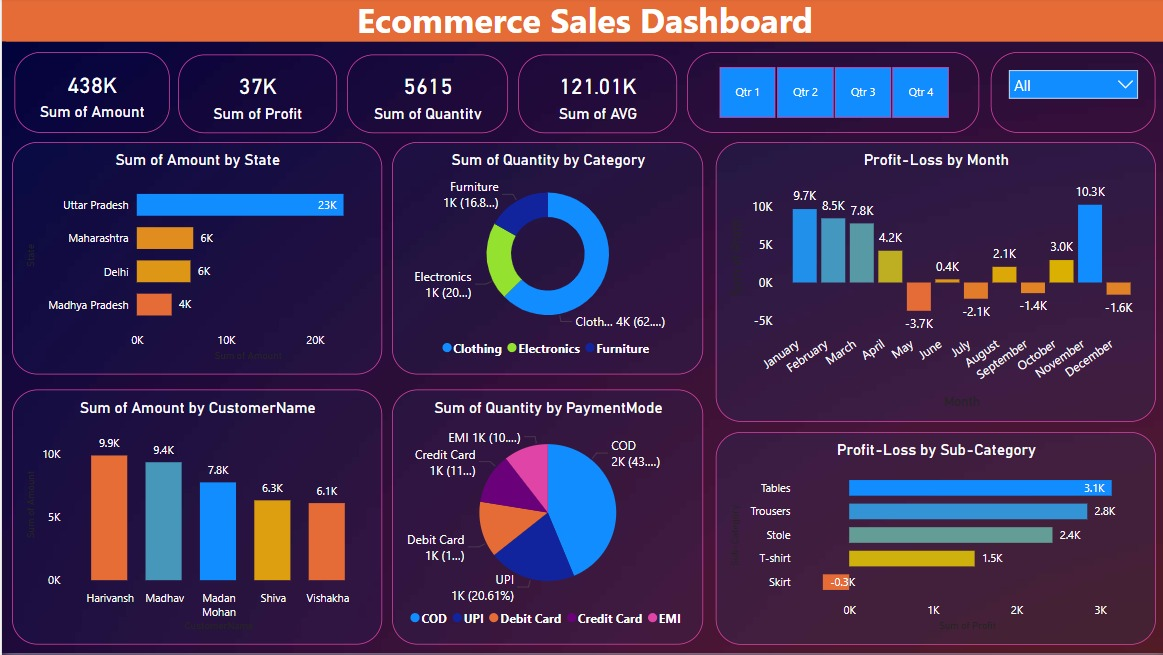

Layout of this report page (visuals, bound fields, positions):
{"tool":"powerbi","page":{"name":"Page 1","canvas":[1280,720],"ordinal":0},"visuals":[{"type":"textbox","title":"Ecommerce Sales Dashboard","box":[0,0,1280,48.6],"z":0},{"type":"columnChart","title":"Profit-Loss by Month","fields":{"Category":["Orders.Order Date.Variation.Date Hierarchy.Month"],"Y":["Sum(Details.Profit)"]},"box":[783.5,159.2,483,307.4],"z":1000},{"type":"columnChart","fields":{"Category":["Orders.CustomerName"],"Y":["Sum(Details.Amount)"]},"box":[11,430.9,406.2,279.9],"z":2000},{"type":"pieChart","fields":{"Y":["Sum(Details.Quantity)"],"Category":["Details.PaymentMode"]},"box":[428.1,430.9,341.7,279.9],"z":3000},{"type":"donutChart","fields":{"Y":["Sum(Details.Quantity)"],"Category":["Details.Category"]},"box":[428.1,159.2,341.7,255.2],"z":4000},{"type":"barChart","title":"Profit-Loss by Sub-Category","fields":{"Category":["Details.Sub-Category"],"Y":["Sum(Details.Profit)"]},"box":[783.5,477.5,483,233.3],"z":5000},{"type":"barChart","fields":{"Category":["Orders.State"],"Y":["Sum(Details.Amount)"]},"box":[11,159.2,406.2,255.2],"z":6000},{"type":"card","fields":{"Values":["Sum(Details.Amount)"]},"box":[13.7,60.4,170.2,89.2],"z":7000},{"type":"card","fields":{"Values":["Sum(Details.AVG)"]},"box":[566.7,63.1,174.3,86.4],"z":8000},{"type":"card","fields":{"Values":["Sum(Details.Quantity)"]},"box":[378.7,63.1,177,86.4],"z":9000},{"type":"card","fields":{"Values":["Sum(Details.Profit)"]},"box":[193.5,63.1,174.3,86.4],"z":10000},{"type":"slicer","fields":{"Values":["Orders.Order Date.Variation.Date Hierarchy.Quarter"]},"box":[752,60.4,321.1,89.2],"z":11000},{"type":"slicer","fields":{"Values":["Orders.State"]},"box":[1085.4,60.4,181.1,89.2],"z":12000}]}

Visuals, with their boxes in screenshot pixels (x1, y1, x2, y2), scaled from the page's 1280x720 canvas onto the 1163x655 screenshot:
"Ecommerce Sales Dashboard" textbox: bbox=(0, 0, 1162, 44)
"Profit-Loss by Month" columnChart: bbox=(712, 145, 1151, 424)
columnChart - Orders.CustomerName x Sum(Details.Amount): bbox=(10, 392, 379, 647)
pieChart - Sum(Details.Quantity) x Details.PaymentMode: bbox=(389, 392, 699, 647)
donutChart - Sum(Details.Quantity) x Details.Category: bbox=(389, 145, 699, 377)
"Profit-Loss by Sub-Category" barChart: bbox=(712, 434, 1151, 647)
barChart - Orders.State x Sum(Details.Amount): bbox=(10, 145, 379, 377)
card - Sum(Details.Amount): bbox=(12, 55, 167, 136)
card - Sum(Details.AVG): bbox=(515, 57, 673, 136)
card - Sum(Details.Quantity): bbox=(344, 57, 505, 136)
card - Sum(Details.Profit): bbox=(176, 57, 334, 136)
slicer - Orders.Order Date.Variation.Date Hierarchy.Quarter: bbox=(683, 55, 975, 136)
slicer - Orders.State: bbox=(986, 55, 1151, 136)
